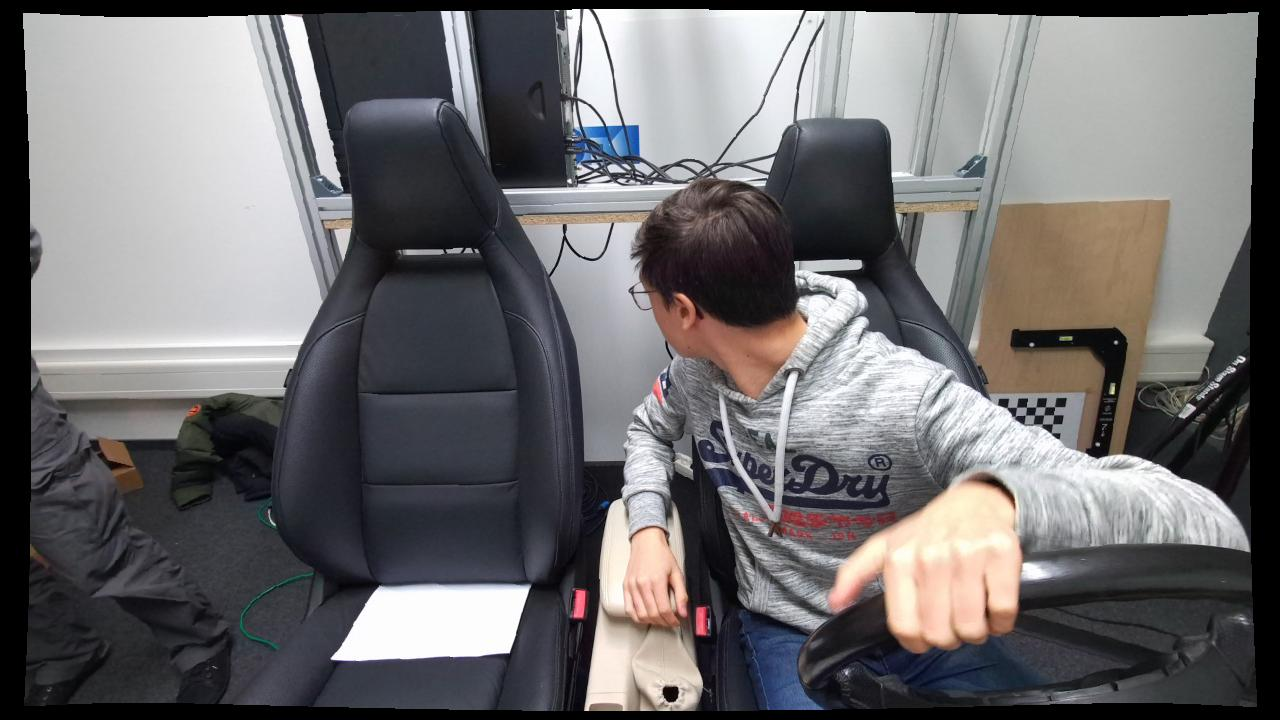Distracted: (618, 170, 978, 713)
